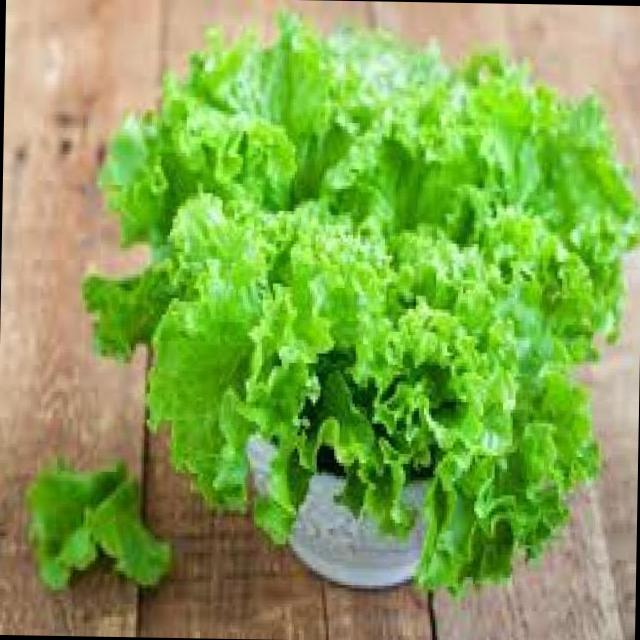Lettuce-Ready-to-Harvest: (83, 14, 640, 587), (29, 467, 165, 586)
